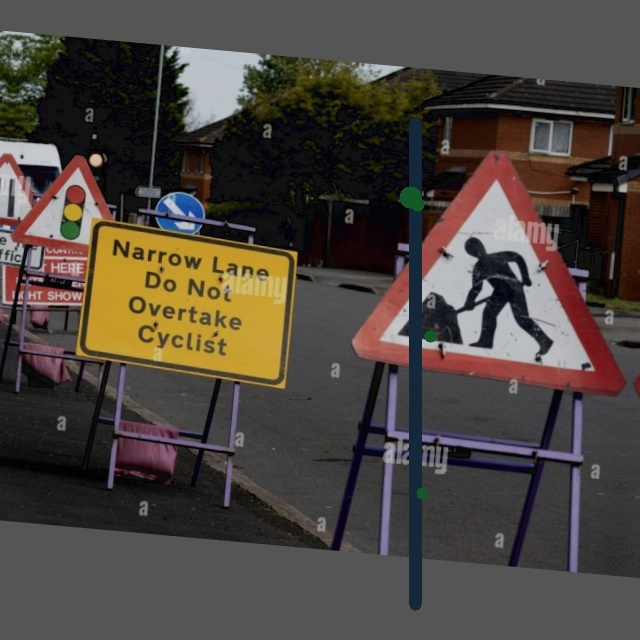Men_at_Work: (349, 124, 639, 399)
